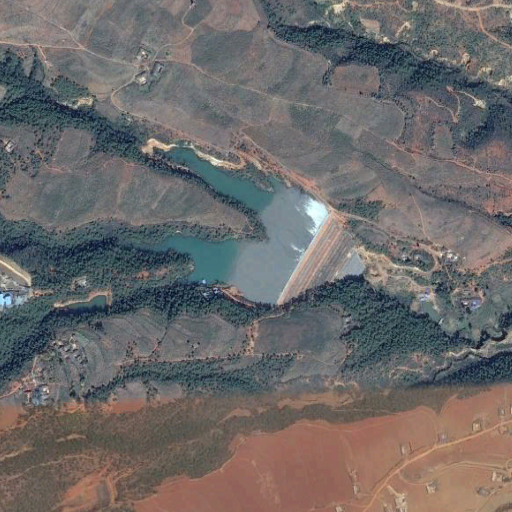tp: (134, 143, 362, 303)
